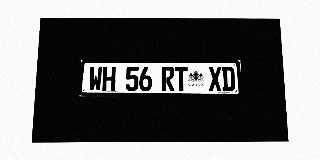5: (126, 67, 139, 91)
6: (139, 67, 152, 91)
D: (221, 67, 235, 91)
H: (102, 67, 116, 91)
R: (161, 67, 174, 91)
T: (175, 67, 188, 91)
W: (89, 67, 102, 91)
X: (208, 67, 222, 91)
